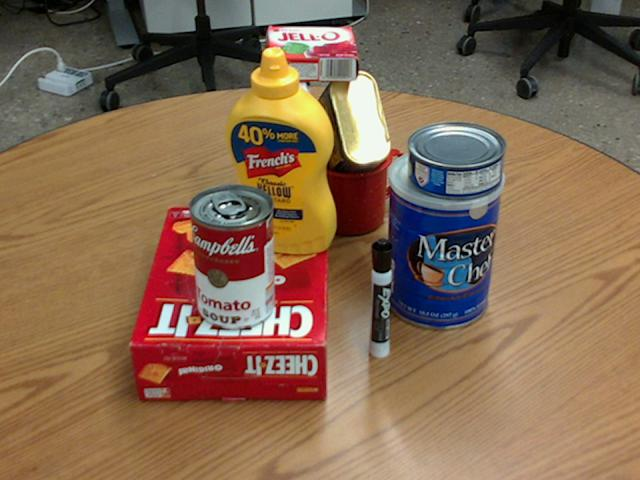cracker_box: (130, 208, 330, 399)
gelatin_box: (266, 27, 357, 81)
large_marker: (368, 238, 393, 358)
master_chef_can: (383, 145, 503, 329)
mug: (308, 132, 407, 233)
mustard_bottle: (223, 47, 334, 252)
potted_meat_can: (308, 72, 390, 188)
sugar_box: (264, 60, 308, 248)
tomato_soup_can: (188, 184, 275, 328)
tuna_fish_can: (407, 121, 505, 198)
